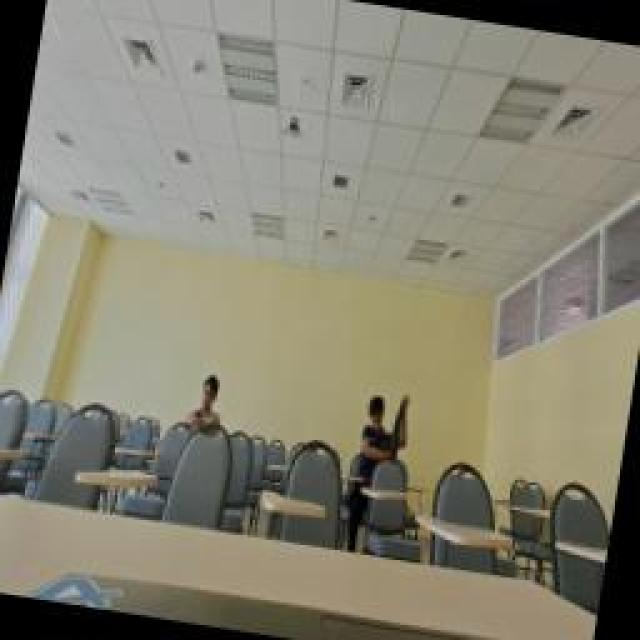phone: (182, 372, 228, 440)
